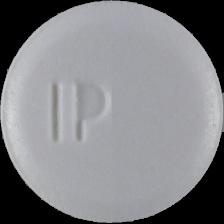65162-007: (0, 0, 224, 224)
